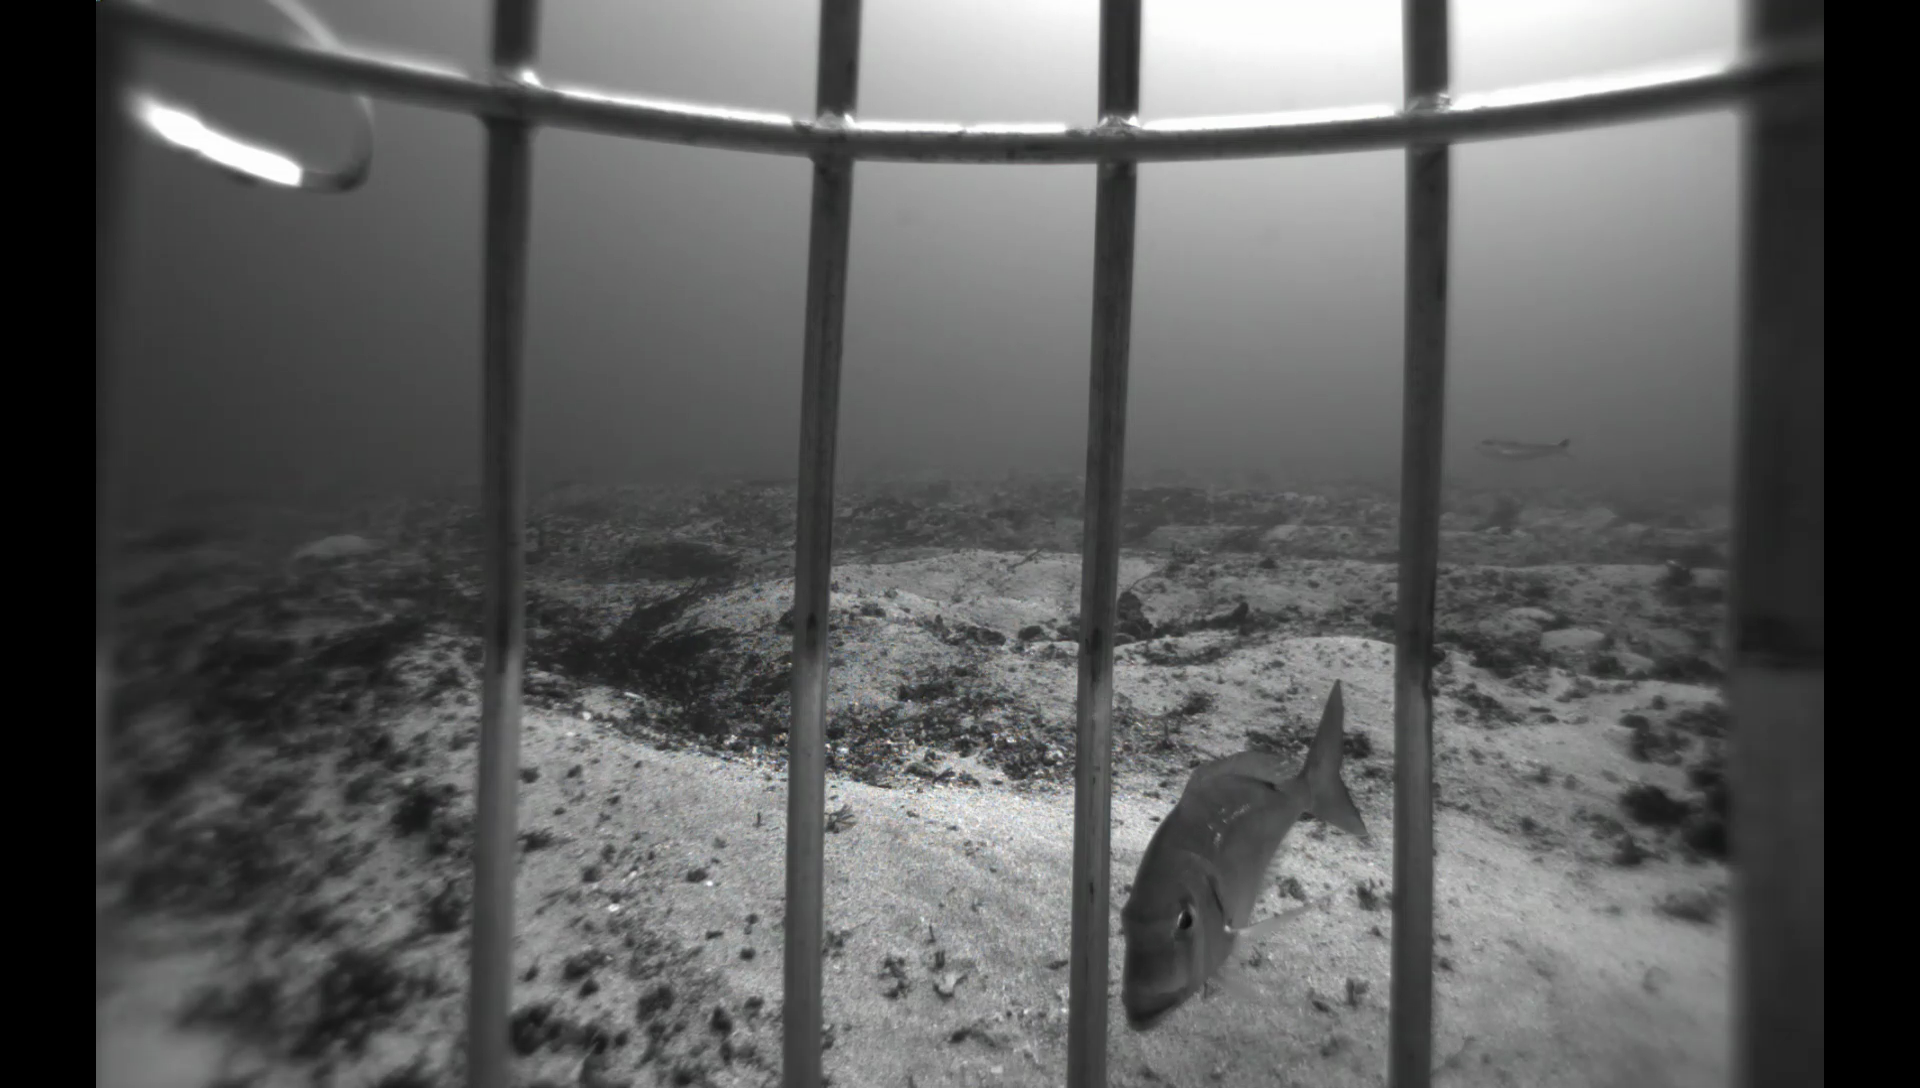MALACANTHUSPLUMIERI-170070301: (1468, 433, 1576, 466)
PAGRUSPAGRUS-170212302: (1110, 680, 1377, 1050)
